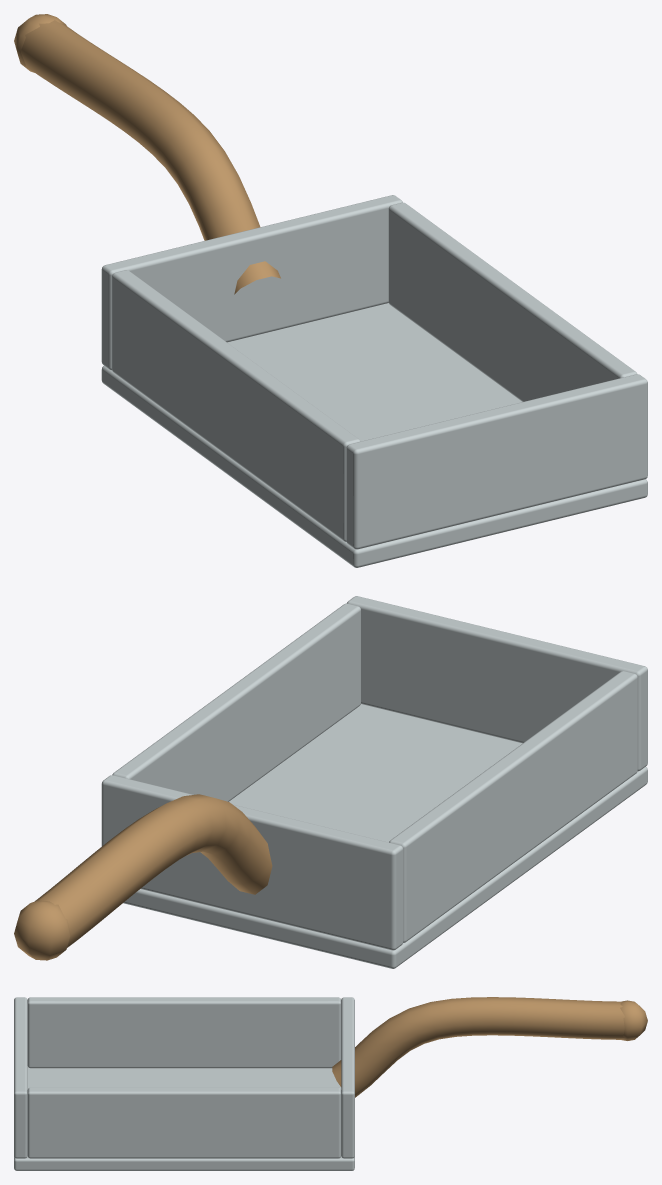
File: mushroom-farm-and-grow-rooms-substrate-scoop-49b1c104__30806.glb
The picture shows the model from 3 angles, top to bottom: view 1: azimuth 30°, elevation 25°; view 2: azimuth 150°, elevation 25°; view 3: azimuth 270°, elevation 25°; orthographic projection. The views are drawn at different scales.
Parts seen in each view (by area): view 1: substrate-scoop; view 2: substrate-scoop; view 3: substrate-scoop.
Boxes of the visible parts, x1,y1,x2,y2 form: substrate-scoop: (14,14,647,567); substrate-scoop: (14,596,647,968); substrate-scoop: (14,997,647,1170).
Bounding box in the file's own units: 0.2 × 0.1206 × 0.558.
